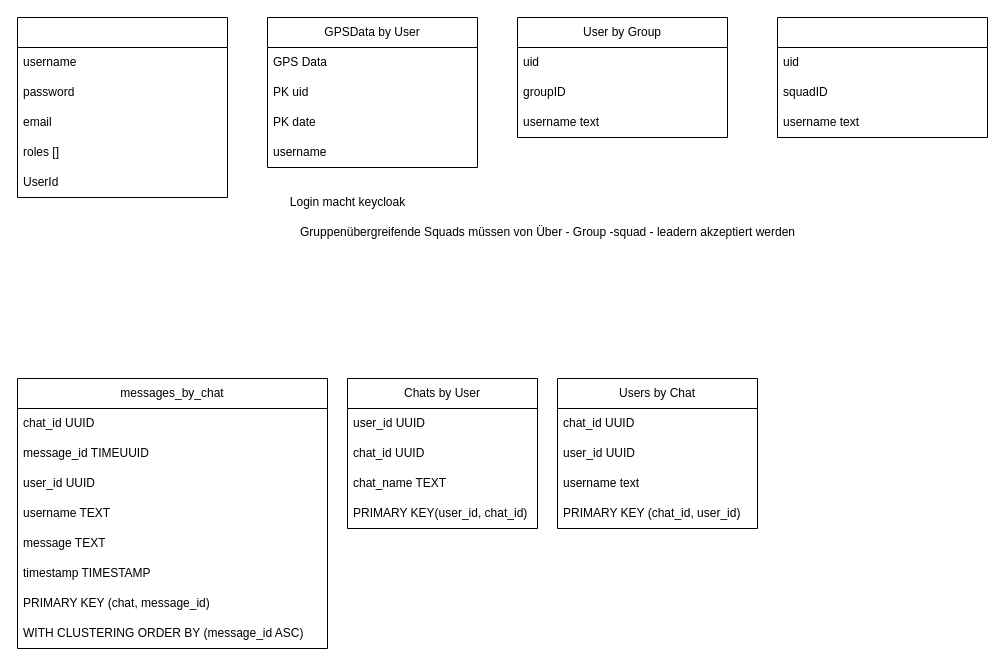
This 1005x666 diagram has some shape labels left out. Each missing label, with the box of its shape:
User by Squad: (776, 16, 988, 138)
User(keycloak): (16, 16, 228, 198)
